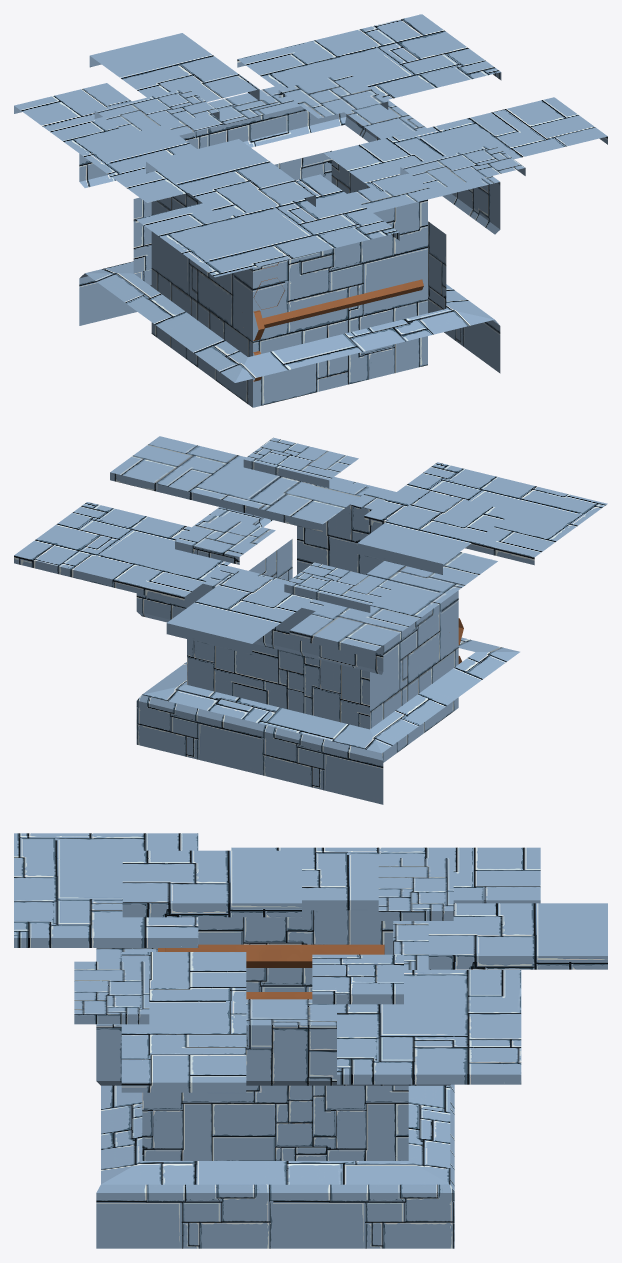
File: JC_ModPanels_UniqueTile_II.fbx
3 renders of one model, top to bottom at view 1: azimuth 30°, elevation 25°; view 2: azimuth 150°, elevation 25°; view 3: azimuth 270°, elevation 25°, orthographic. The views are drawn at different scales.
Parts seen in each view (by area): view 1: JC_ModPanels_UniqueTile_II; view 2: JC_ModPanels_UniqueTile_II; view 3: JC_ModPanels_UniqueTile_II.
Boxes of the visible parts, left/top/right/bottom form: JC_ModPanels_UniqueTile_II: left=14, top=14, right=607, bottom=407; JC_ModPanels_UniqueTile_II: left=14, top=436, right=607, bottom=804; JC_ModPanels_UniqueTile_II: left=14, top=833, right=607, bottom=1248.
Size of the model in its own units: 329 by 152 by 331.
